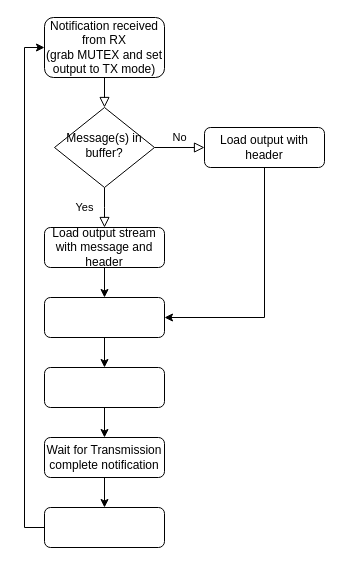
Some shapes in this 342 by 565 pixel diagram are drawn without their labels. Each missing label, with the centre of its shape:
"Enable DRE interrupt" goes at point 104,317.
"release MUTEX" goes at point 104,527.
"Send Preamble (DRE interrupt takes over)" goes at point 104,387.
